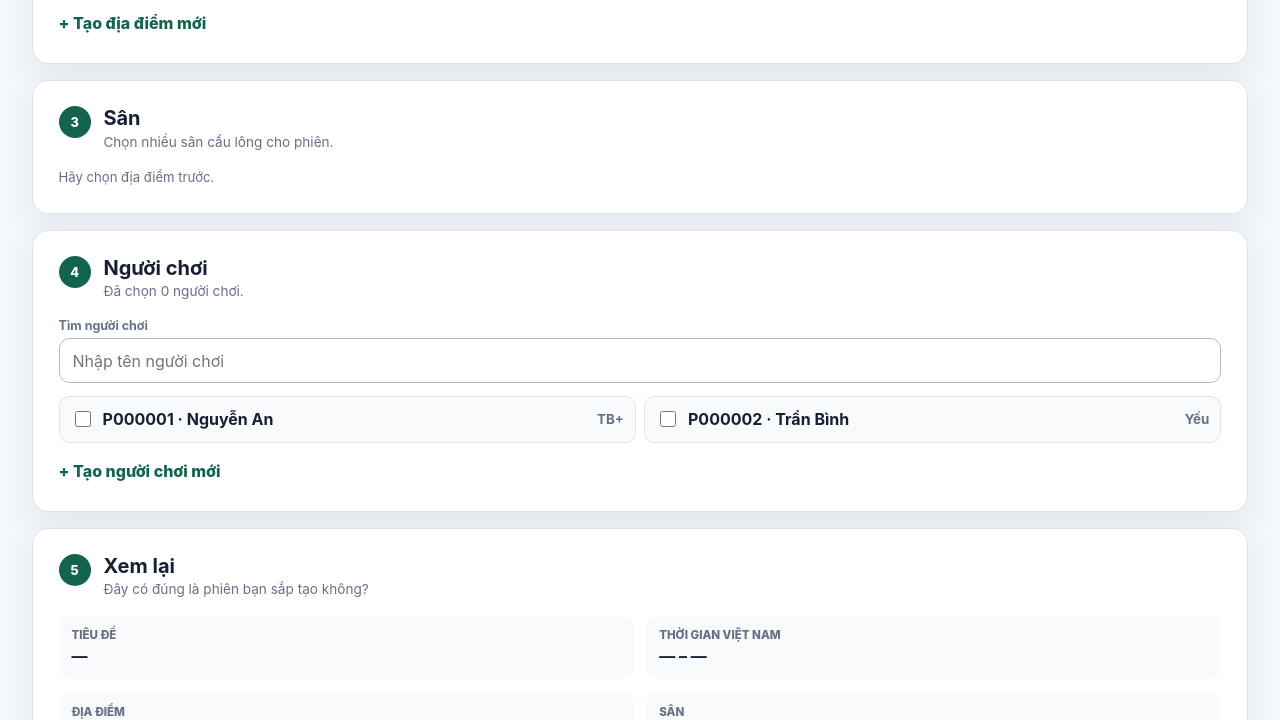
Test: SessionSetupPage › supports compact search, multi-select, and Vietnamese Skill labels
(page scrolled)
expect the text "TB+" is shown: met, box 597,411 -> 624,427
expect the text "Yếu" is shown: met, box 1185,411 -> 1209,427
In the search field labelled "Tìm người chơi": (640, 361) 59,338 -> 1221,383, type "an"
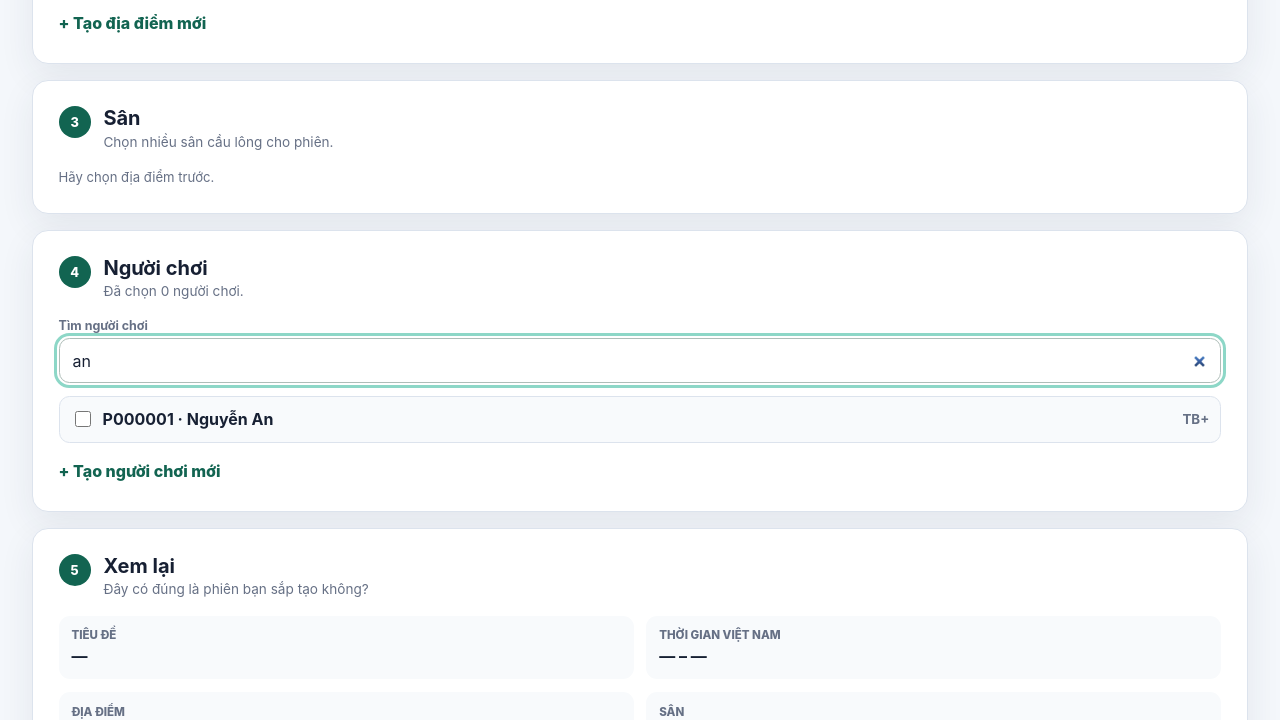
expect the text "P000001 · Nguyễn An" is shown: met, box 103,409 -> 274,429
expect the text "Trần Bình" is gone: met
Click the checkbox labelled "P000001 · Nguyễn An TB+": (83, 419) 75,411 -> 91,427
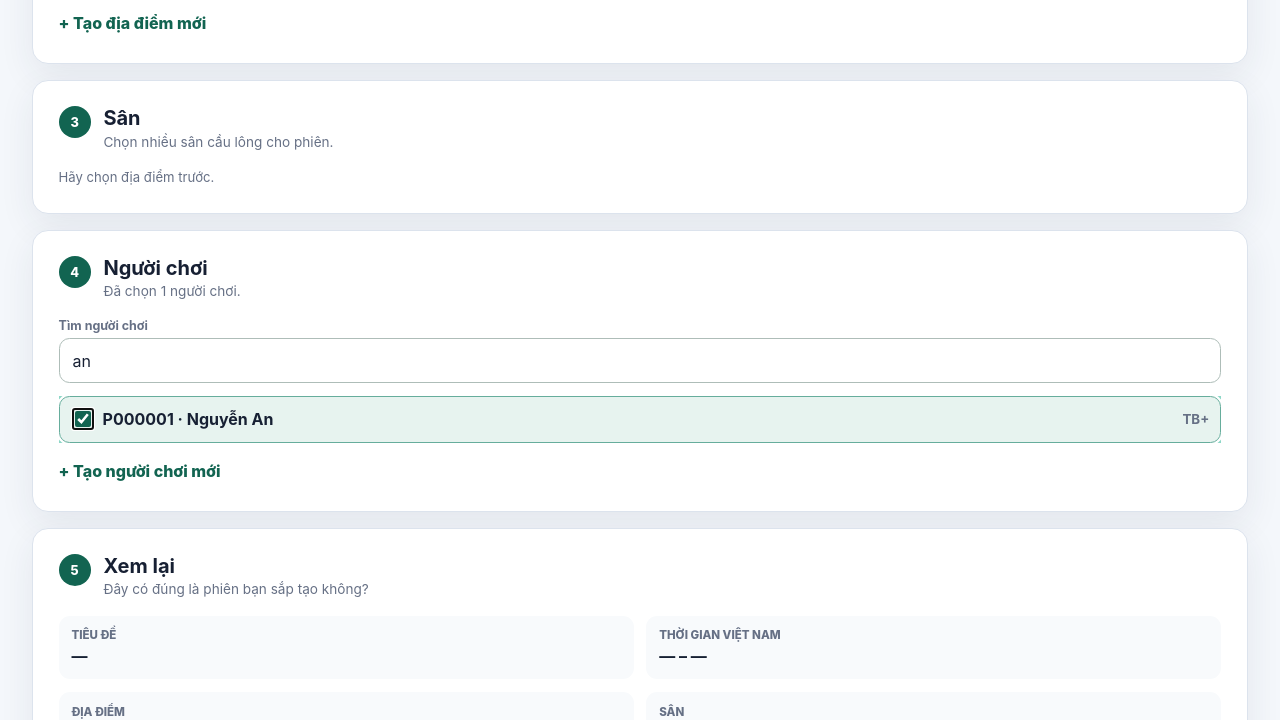
expect the text "Đã chọn 1 người chơi." is shown: met, box 103,283 -> 241,299
